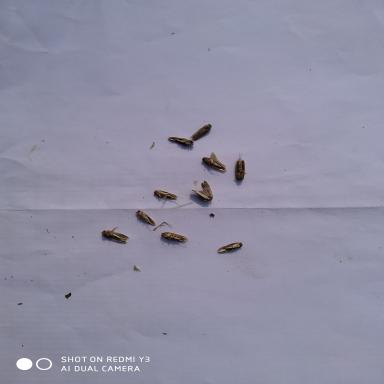pbw: (188, 179, 216, 204), (98, 226, 133, 246), (201, 152, 230, 174), (155, 229, 192, 246), (149, 188, 186, 204), (231, 151, 249, 183), (132, 208, 160, 228), (164, 135, 198, 151), (213, 240, 246, 256), (187, 122, 213, 142)
